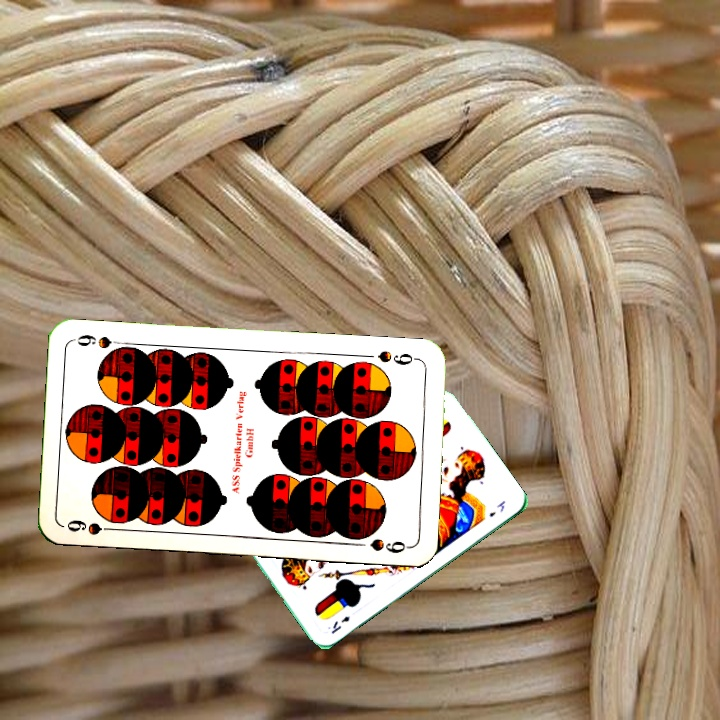EK: (327, 612, 352, 636)
S9: (62, 515, 122, 537), (374, 346, 422, 368)
